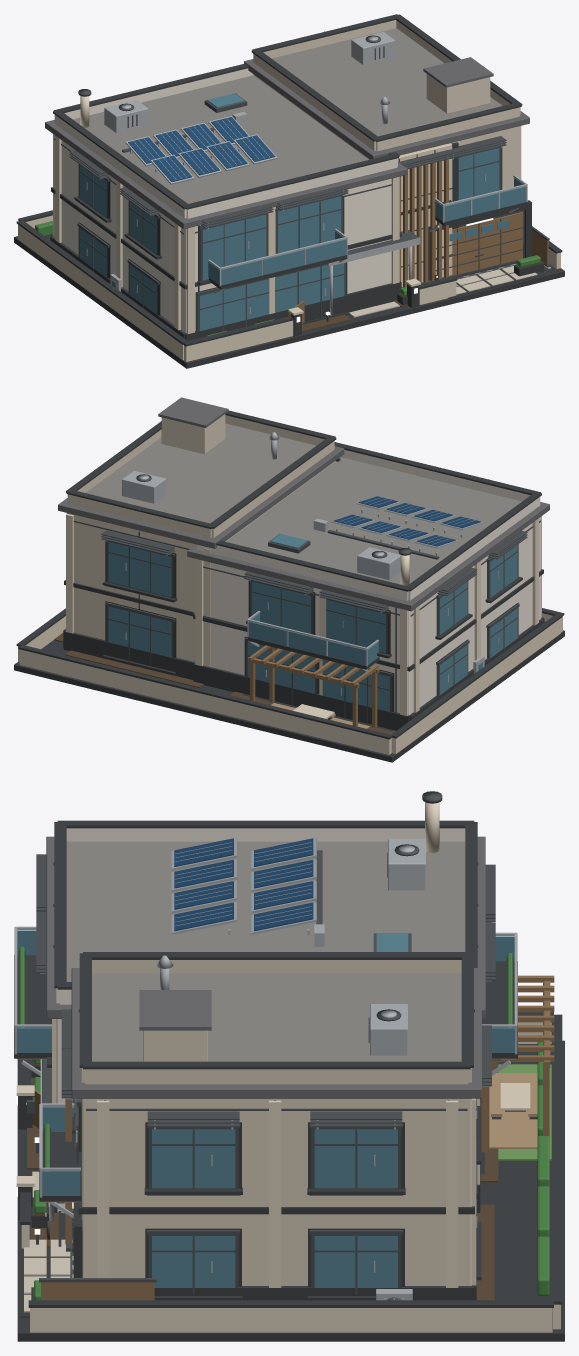
File: villa.glb
3 renders of one model, top to bottom at view 1: azimuth 30°, elevation 25°; view 2: azimuth 150°, elevation 25°; view 3: azimuth 270°, elevation 25°, orthographic. The views are drawn at different scales.
Visible parts, largest first — view 1: Merged_RoofGravel, Merged_VillaGranite, Merged_VillaGlass, Merged_VillaPlaster, Merged_VillaLimestone, Merged_WindowFrame, Merged_RoofDark, Merged_VillaStone, Merged_VillaWood, Merged_PropsMetal, Merged_SolarCell, Merged_VillaPavement (+2 smaller); view 2: Merged_VillaGranite, Merged_RoofGravel, Merged_VillaGlass, Merged_VillaLimestone, Merged_VillaPlaster, Merged_VillaStone, Merged_WindowFrame, Merged_RoofDark, Merged_PropsMetal, Merged_VillaWood, Merged_SolarCell, Merged_VillaMulch; view 3: Merged_VillaGranite, Merged_RoofGravel, Merged_VillaStone, Merged_VillaLimestone, Merged_VillaGlass, Merged_WindowFrame, Merged_RoofDark, Merged_PropsMetal, Merged_SolarCell, Merged_VillaWood, Merged_VillaPlaster, Merged_VillaHedge (+4 smaller).
Boxes of the visible parts, box(x1,y1,x2,y2) form: Merged_RoofGravel: box(73, 28, 502, 203); Merged_VillaGranite: box(14, 14, 564, 368); Merged_VillaGlass: box(79, 93, 525, 330); Merged_VillaPlaster: box(53, 68, 397, 333); Merged_VillaLimestone: box(18, 96, 560, 361); Merged_WindowFrame: box(54, 31, 549, 331); Merged_RoofDark: box(45, 57, 529, 229); Merged_VillaStone: box(253, 20, 521, 189); Merged_VillaWood: box(288, 157, 548, 324); Merged_PropsMetal: box(86, 32, 550, 315); Merged_SolarCell: box(128, 117, 275, 181); Merged_VillaPavement: box(349, 266, 537, 317); Merged_VillaGranite: box(14, 410, 564, 762); Merged_RoofGravel: box(86, 423, 521, 584); Merged_VillaGlass: box(108, 534, 517, 711); Merged_VillaLimestone: box(18, 514, 562, 754); Merged_VillaPlaster: box(197, 450, 541, 715); Merged_VillaStone: box(66, 414, 335, 661); Merged_WindowFrame: box(73, 418, 540, 723); Merged_RoofDark: box(58, 397, 549, 627); Merged_PropsMetal: box(105, 432, 523, 695); Merged_VillaWood: box(247, 645, 379, 727); Merged_SolarCell: box(333, 496, 480, 546); Merged_VillaMulch: box(54, 633, 395, 734); Merged_VillaGranite: box(14, 820, 564, 1341); Merged_RoofGravel: box(66, 841, 465, 1061); Merged_VillaStone: box(81, 960, 471, 1285); Merged_VillaLimestone: box(16, 802, 560, 1332); Merged_VillaGlass: box(17, 930, 514, 1287); Merged_WindowFrame: box(27, 791, 537, 1300); Merged_RoofDark: box(46, 836, 485, 1098); Merged_PropsMetal: box(14, 837, 517, 1300); Merged_SolarCell: box(174, 838, 313, 931); Merged_VillaWood: box(32, 975, 554, 1300); Merged_VillaPlaster: box(56, 828, 465, 1213); Merged_VillaHedge: box(19, 946, 549, 1300).
Bounding box in the file's own units: 19.2 × 8.84 × 15.24.
